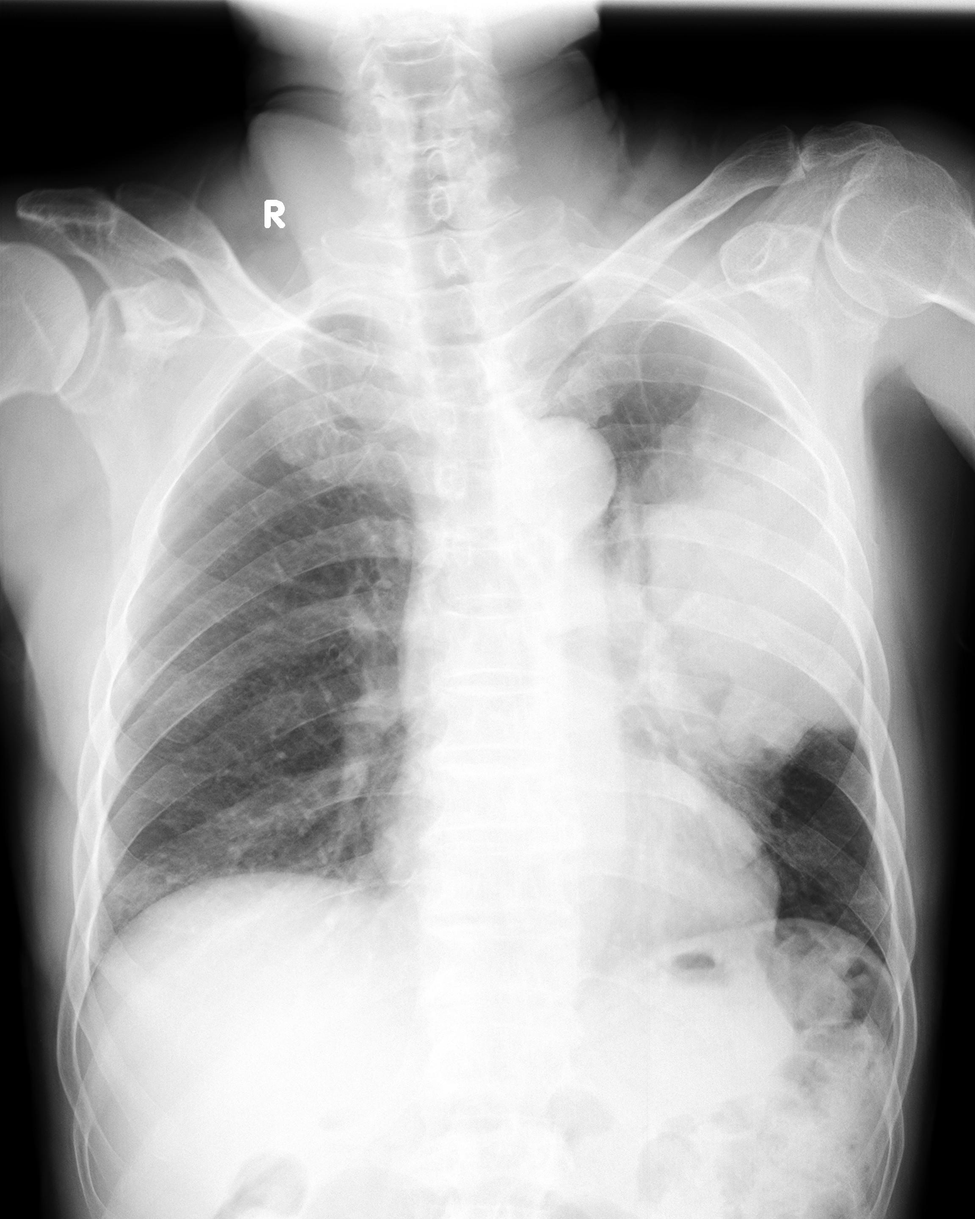Aortic enlargement: (490, 414, 620, 532)
Cardiomegaly: (368, 819, 782, 922)
Pleural thickening: (620, 375, 881, 776)
